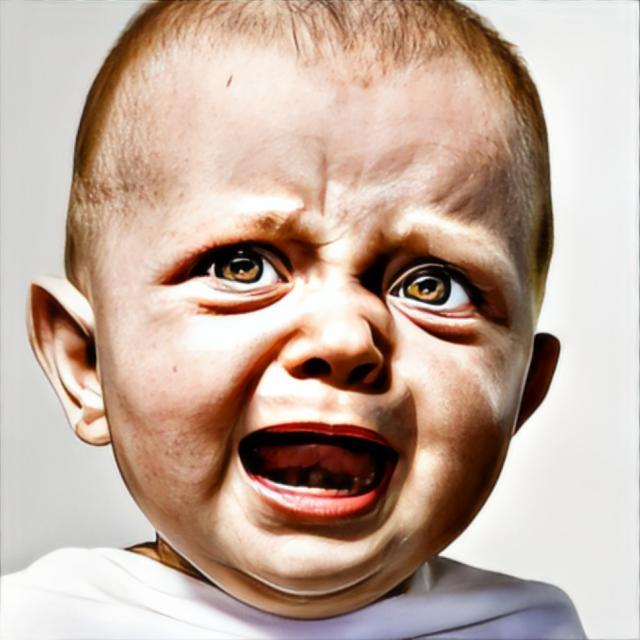fear: (100, 0, 540, 601)
